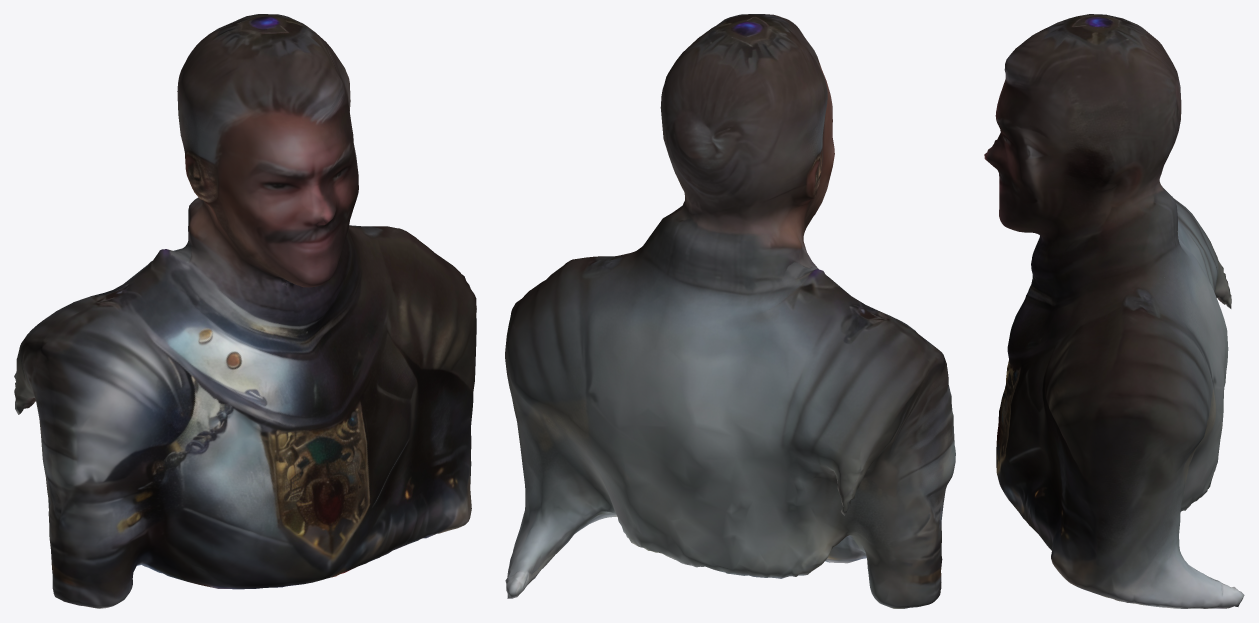
File: 0191231b-3bfa-7226-a80a-a71a071ed9ed_glb.glb
3 renders of one model, left to right at view 1: azimuth 30°, elevation 25°; view 2: azimuth 150°, elevation 25°; view 3: azimuth 270°, elevation 25°, orthographic. The views are drawn at different scales.
Size of the model in its own units: 0.9473 by 1.2 by 0.5517.
Materials: 1 (1 with a texture image).
